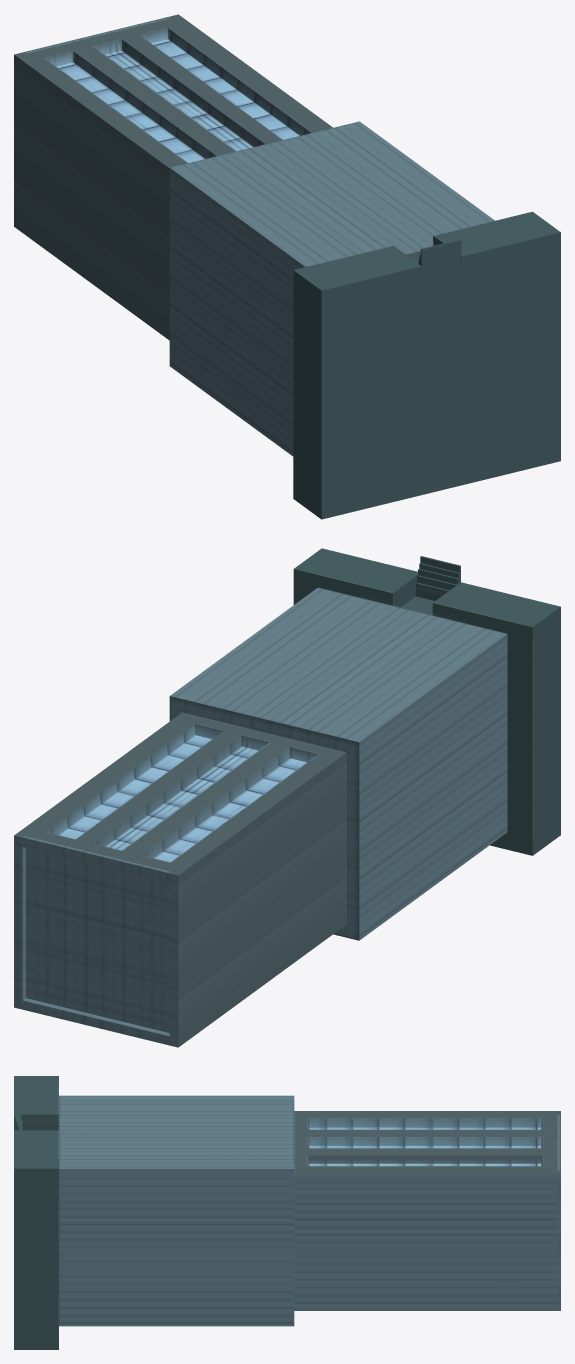
Rendered from buildings-comercial-07.obj.
3 renders of one model, top to bottom at view 1: azimuth 30°, elevation 25°; view 2: azimuth 150°, elevation 25°; view 3: azimuth 270°, elevation 25°, orthographic. The views are drawn at different scales.
Visible parts, largest first — view 1: buildings-comercial-07_Cube.098; view 2: buildings-comercial-07_Cube.098; view 3: buildings-comercial-07_Cube.098.
Boxes of the visible parts, <box> form: buildings-comercial-07_Cube.098: <box>14,14,560,519</box>; buildings-comercial-07_Cube.098: <box>14,548,560,1047</box>; buildings-comercial-07_Cube.098: <box>14,1076,560,1349</box>.
Bounding box in the file's own units: 3.89 × 3.81 × 9.72.
